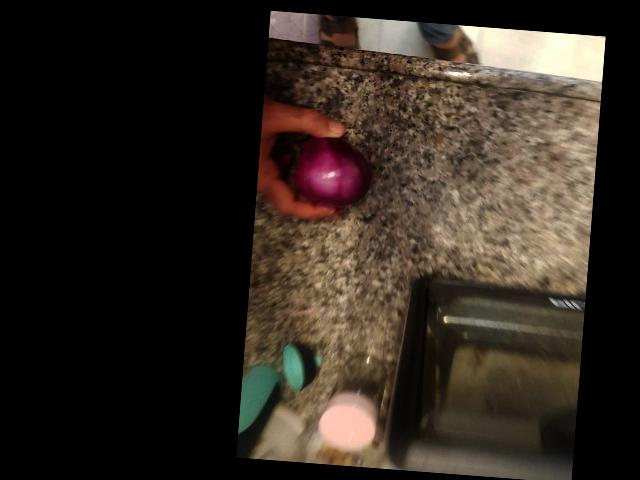onion: (505, 170, 590, 260)
